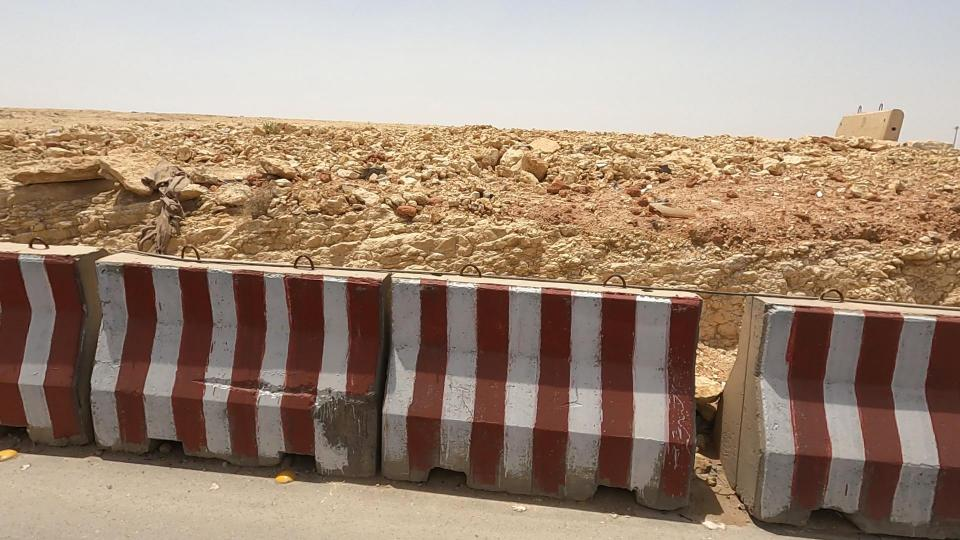CONSTRUCTION_ROAD: (350, 101, 960, 540), (0, 114, 685, 481)
